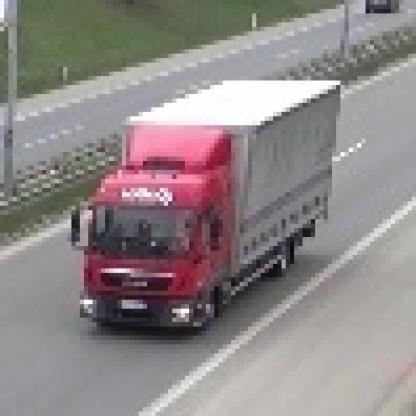truck: (68, 73, 337, 328)
